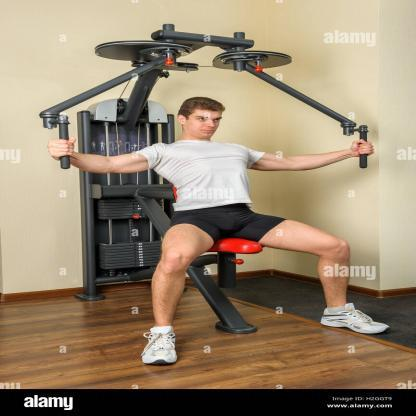chest fly machine: (32, 18, 394, 369)
